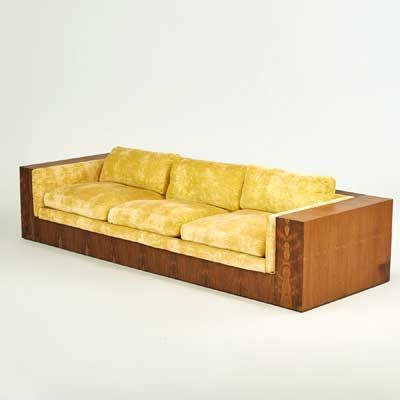3seatersofa: (21, 147, 391, 310)
backrest: (100, 147, 345, 212)
base: (35, 207, 279, 305)
leftarmrest: (267, 191, 391, 311)
pillow: (100, 147, 334, 211)
rightarmrest: (19, 154, 105, 239)
seat: (44, 182, 267, 256)
